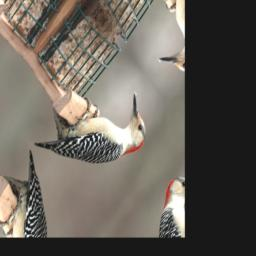Woodpecker: (29, 43, 160, 218)
